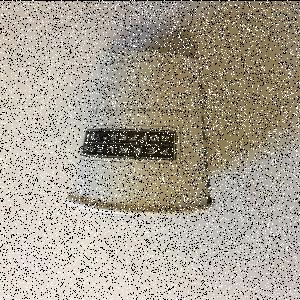Cup: (66, 52, 218, 216)
